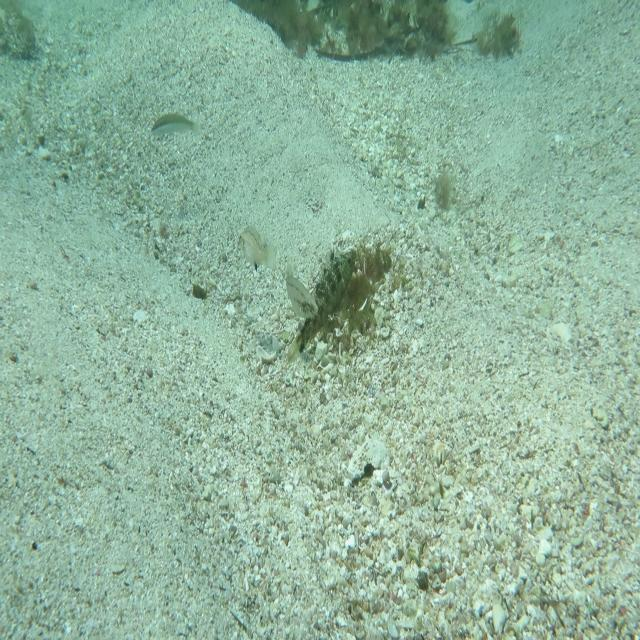Coris_julis_female: (149, 110, 206, 143)
ROLL: (284, 236, 359, 368)
female: (284, 250, 320, 326)
nest: (304, 222, 401, 338)
other_fish: (232, 218, 280, 274)
